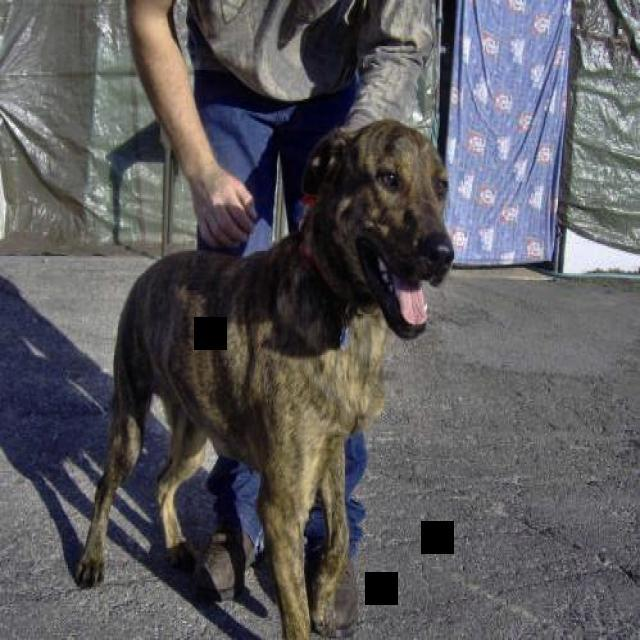adult_dog: (64, 115, 466, 640)
